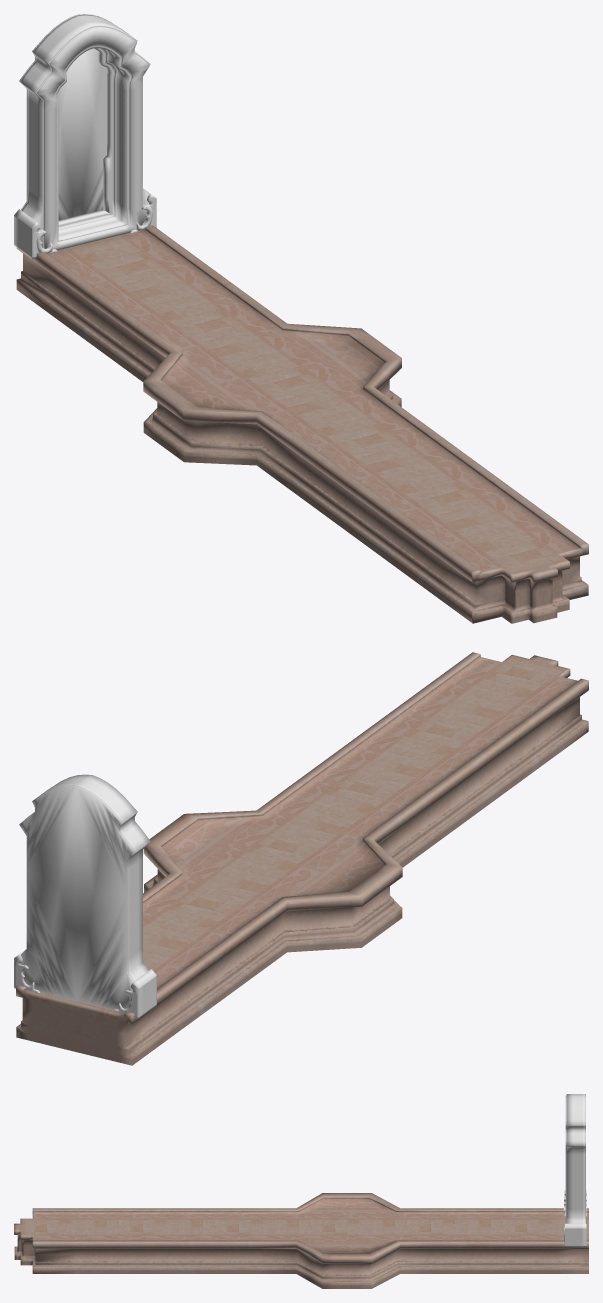
File: 开头路段加门.fbx
The picture shows the model from 3 angles, top to bottom: view 1: azimuth 30°, elevation 25°; view 2: azimuth 150°, elevation 25°; view 3: azimuth 270°, elevation 25°; orthographic projection. The views are drawn at different scales.
Visible parts, largest first — view 1: 平面.002, 平面; view 2: 平面.002, 平面; view 3: 平面.002, 平面.
Part boxes in pixels (x1,y1,x2,y2): 平面.002: (16, 225, 588, 623); 平面: (14, 14, 156, 258); 平面.002: (16, 652, 588, 1065); 平面: (14, 774, 156, 1018); 平面.002: (14, 1193, 588, 1288); 平面: (564, 1094, 586, 1246).
Bounding box in the file's own units: 583 × 671 × 2181.
